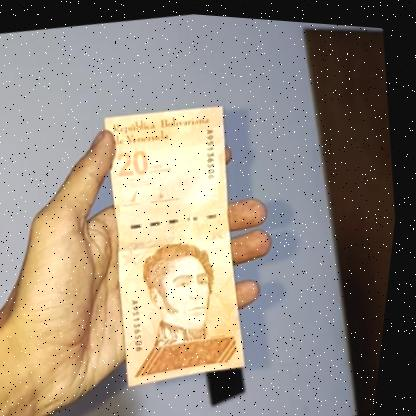twenty-front-vef: (81, 92, 277, 392)
